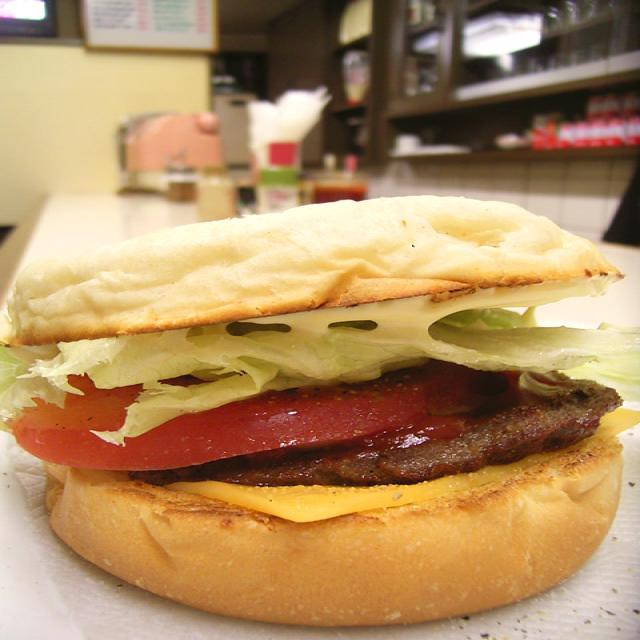汉堡快餐: (0, 172, 640, 640)
